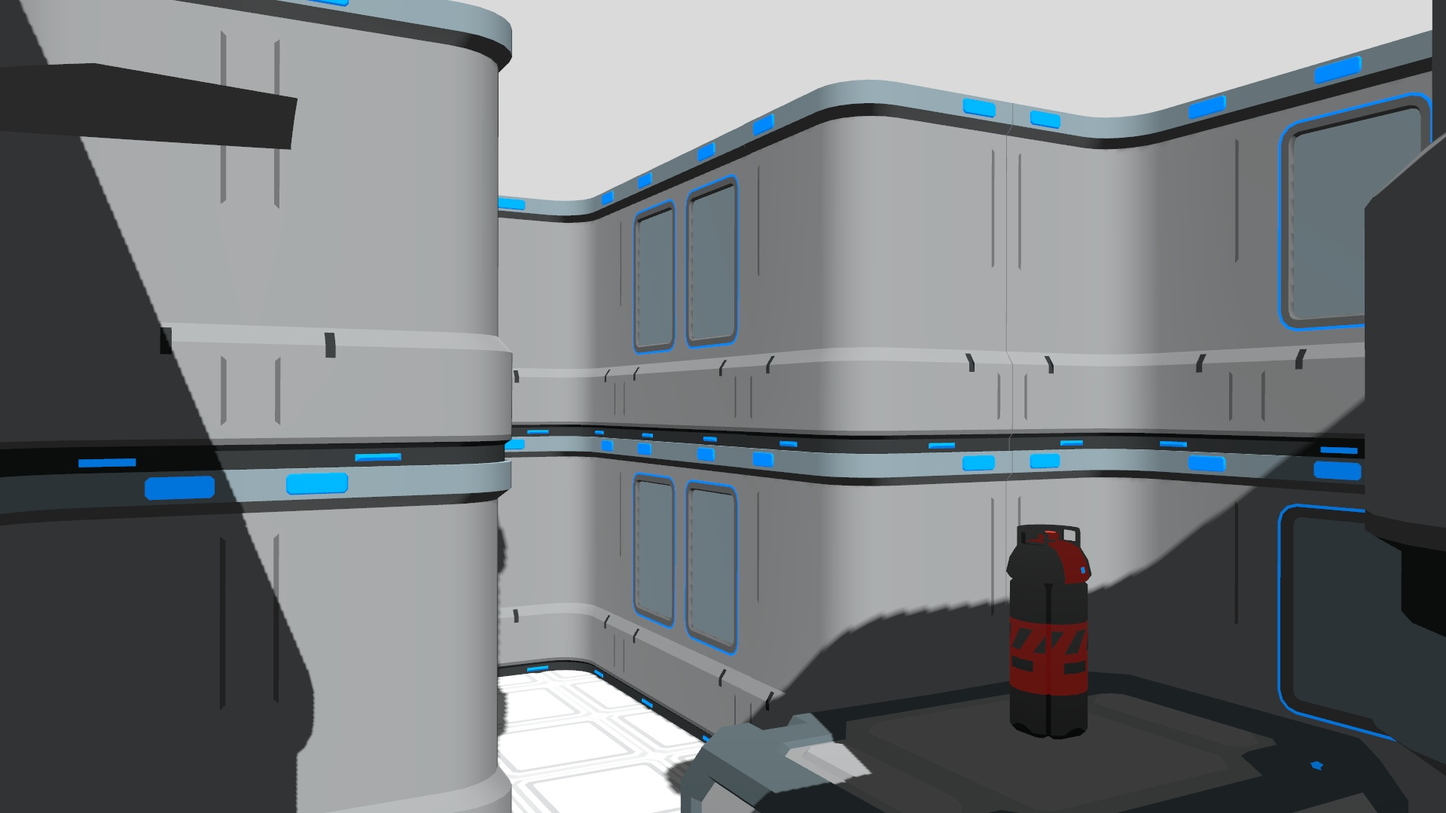red_barrel: (1003, 516, 1092, 746)
